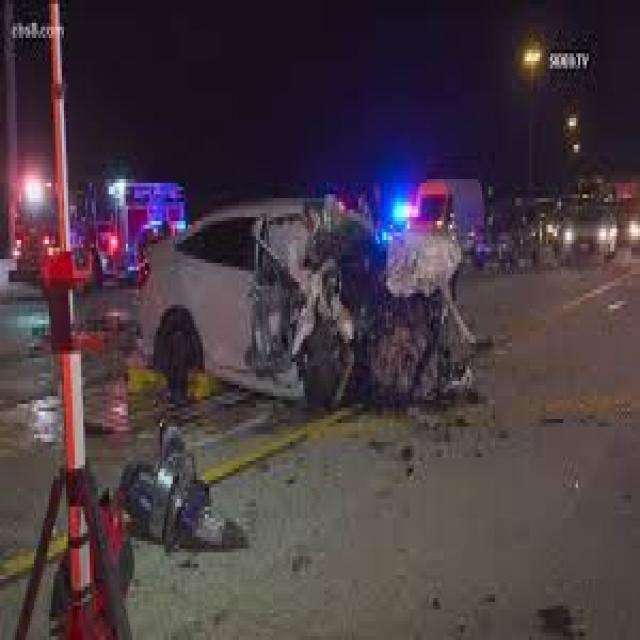accident: (148, 204, 483, 442)
